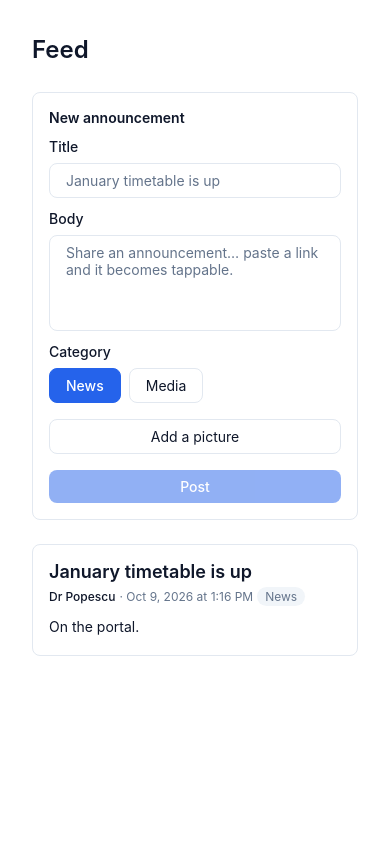
Test: a failed upload shows an error and never creates the post
The width and height of the screenshot is (390, 844).
In the field named "Title": point(195, 180) [49,163,341,198], type "Photo day"
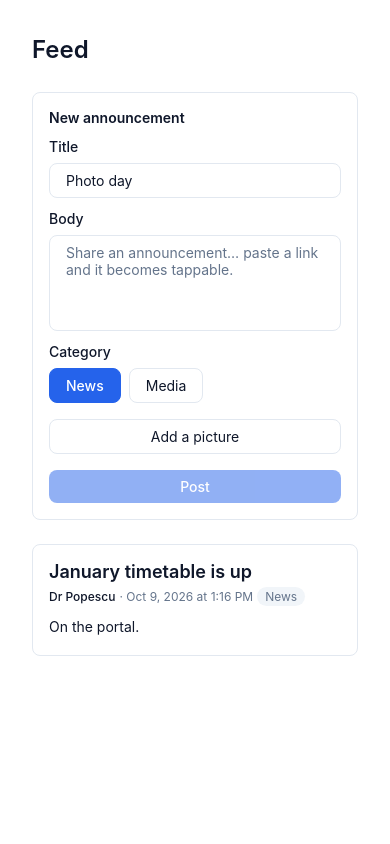
In the text box named "Body": point(195, 283) [49,235,341,331], type "Smile."
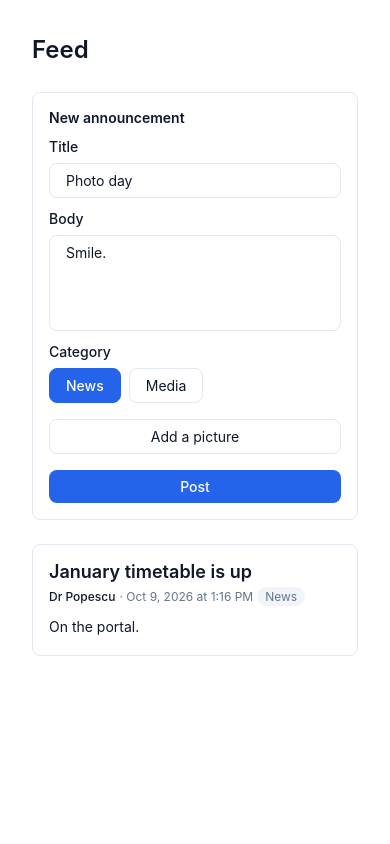
Click the button "Add a picture": point(195, 436) [49,419,341,454]
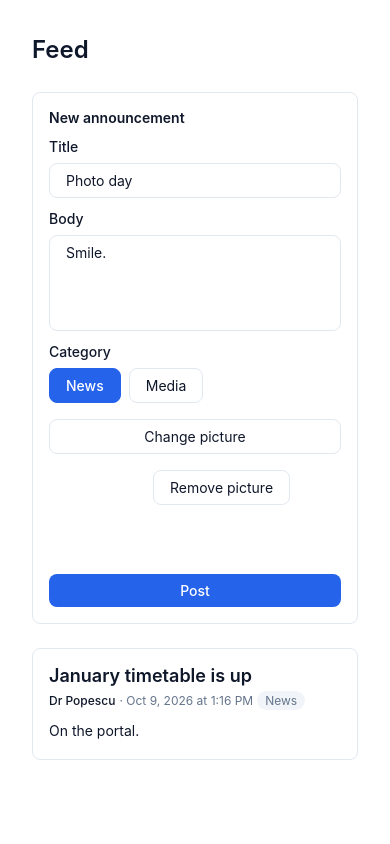
Check: the text "Change picture" is shown, box [144,428,246,445]
Click the button "Post": point(195, 590) [49,574,341,607]
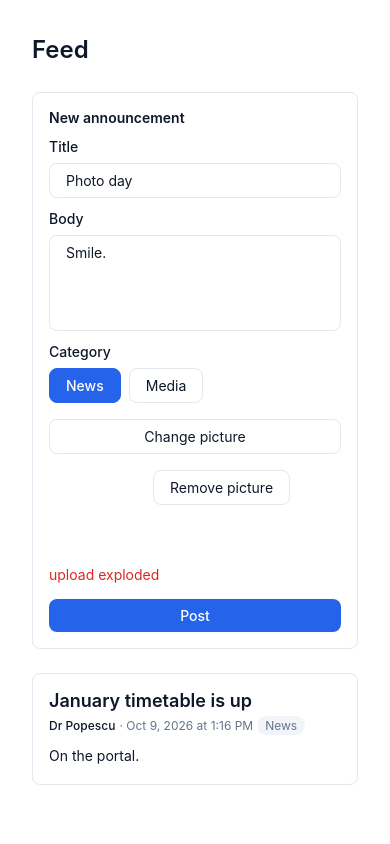
Check: the text "upload exploded" is shown, box [49,566,159,583]
